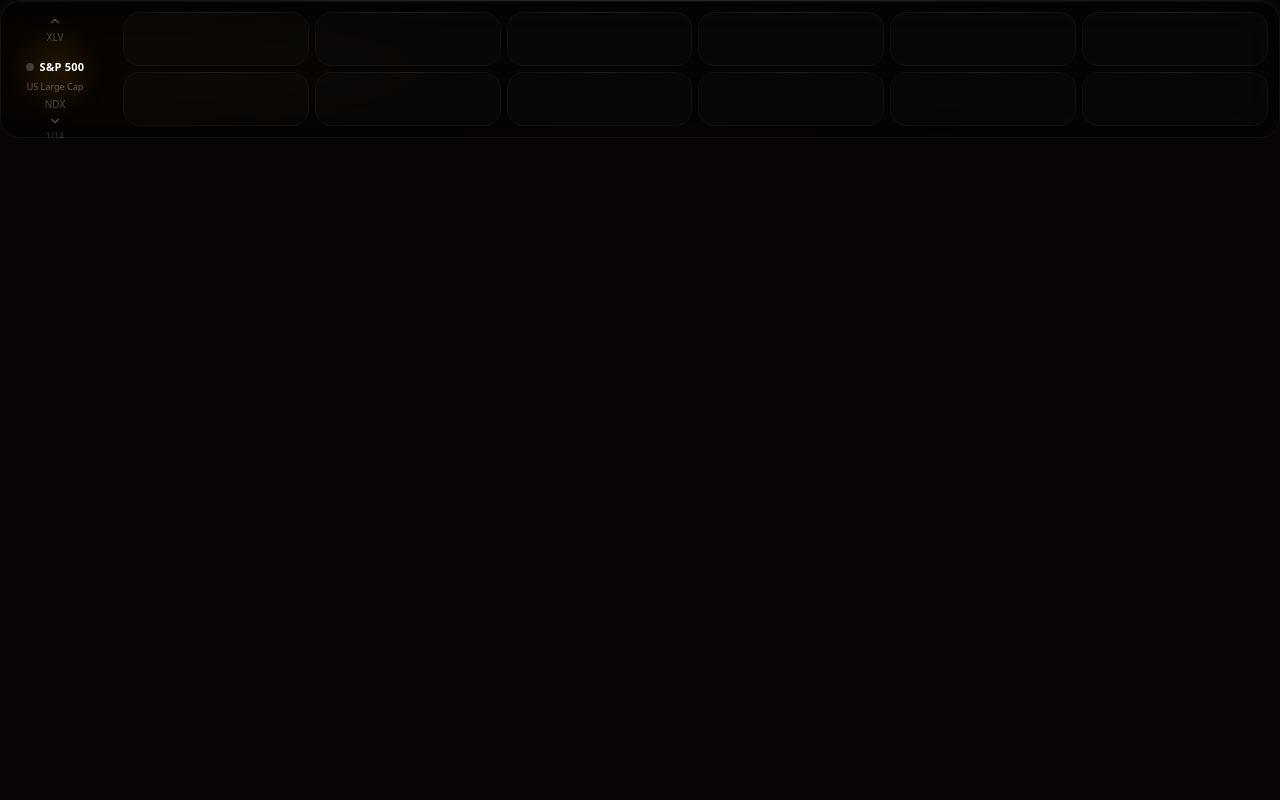
Test: IndexControlPanel › Navigation › should navigate to previous asset
The width and height of the screenshot is (1280, 800).
Click the button named "Previous index" at (55, 21), box 46,12 -> 64,30
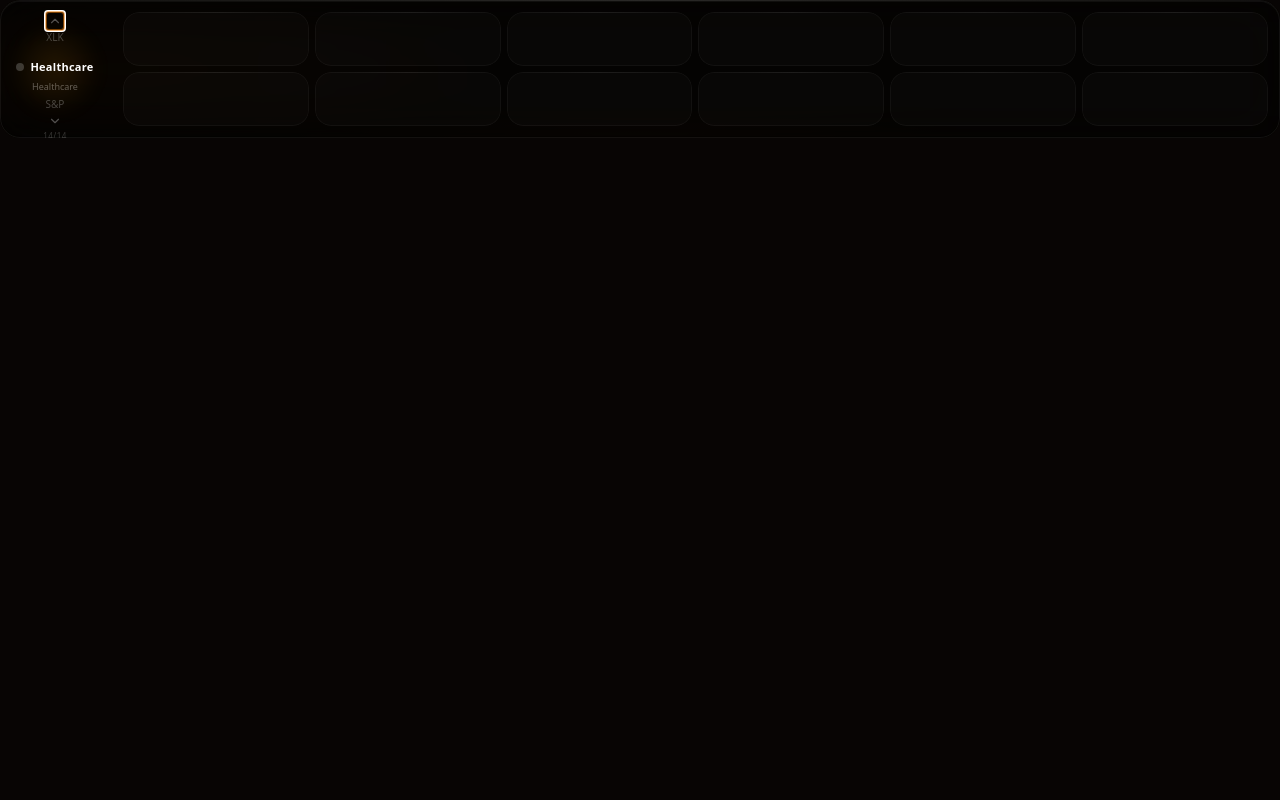
Check: the text "Healthcare" is shown, box 30,59 -> 94,76
